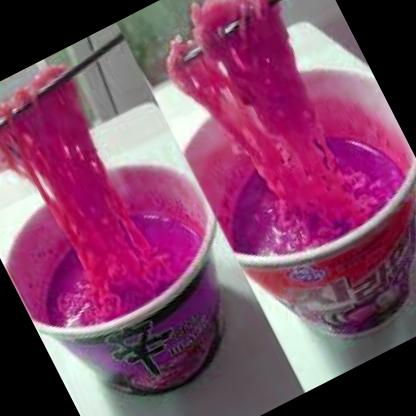Ramen: (172, 42, 416, 378), (0, 127, 275, 416)
